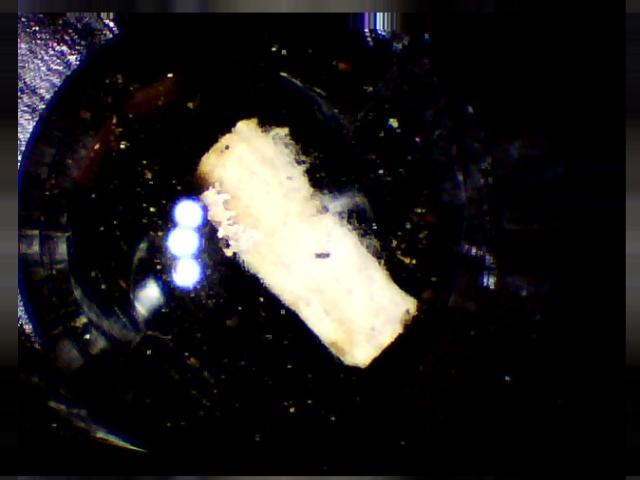megot: (183, 100, 426, 380)
